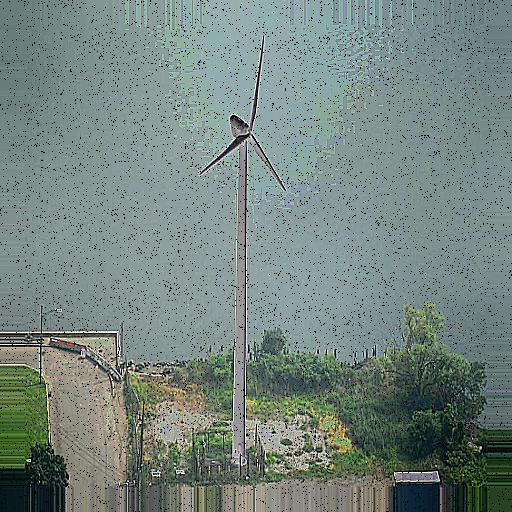wind turbine: (199, 32, 285, 467)
